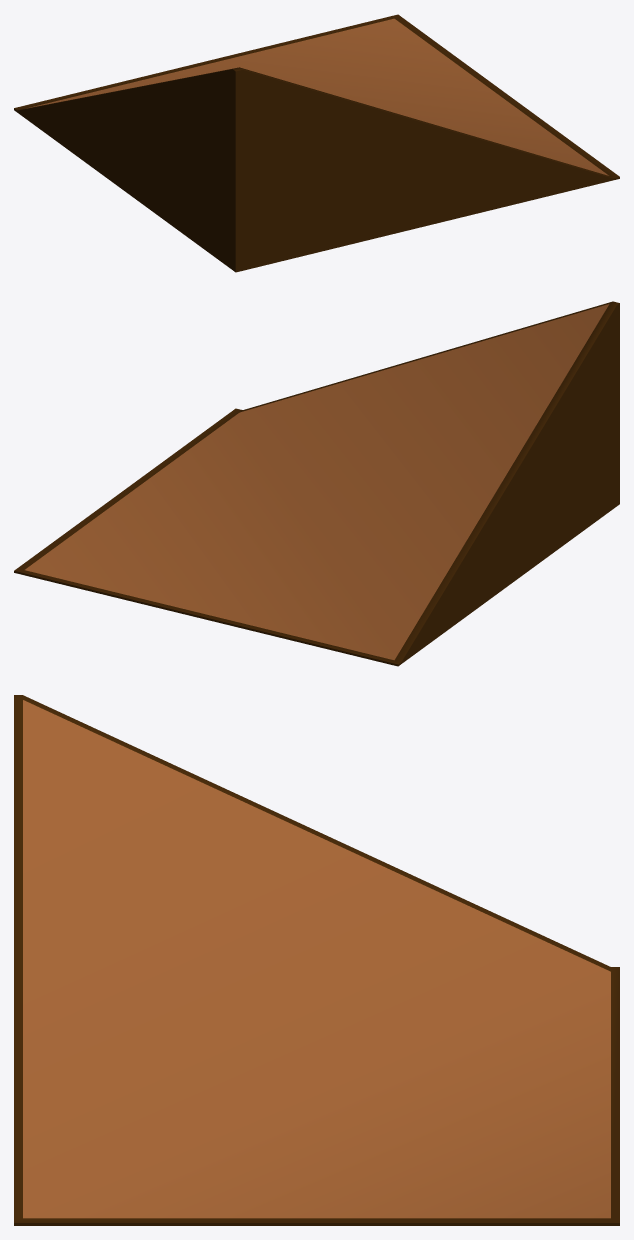
Rendered from Casilla 32.fbx.
The picture shows the model from 3 angles, top to bottom: view 1: azimuth 30°, elevation 25°; view 2: azimuth 150°, elevation 25°; view 3: azimuth 270°, elevation 25°; orthographic projection. The views are drawn at different scales.
Parts seen in each view (by area): view 1: pCube6; view 2: pCube6; view 3: pCube6.
Part boxes in pixels (x1,y1,x2,y2): pCube6: [14, 14, 619, 272]; pCube6: [14, 301, 619, 666]; pCube6: [14, 695, 619, 1225].
Size of the model in its own units: 200 by 100 by 200.
